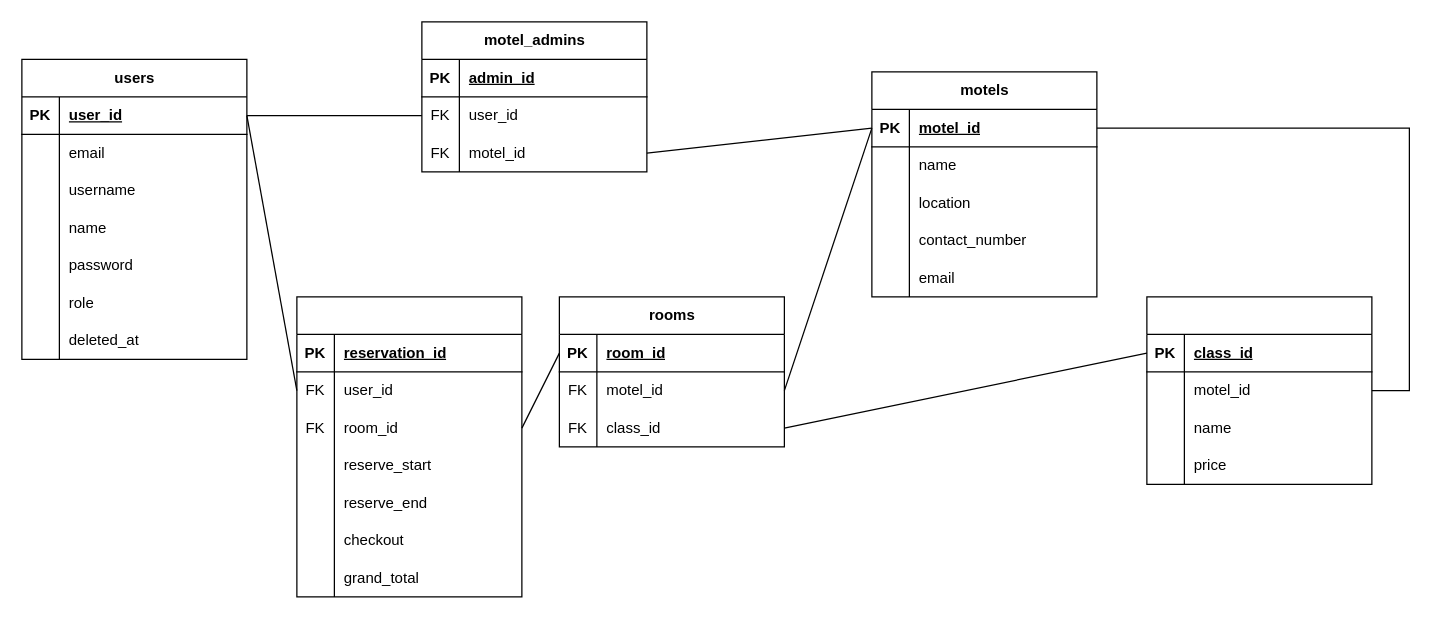
Image size: 1433x619. Some labels were removed from this diagram. The shapes that lost their labels are listed below. From the top down, each one's box as (x1, y1, x2, y2) in pixels, then its label:
(1146, 296, 1372, 484): room_classes
(296, 296, 522, 597): reservations
